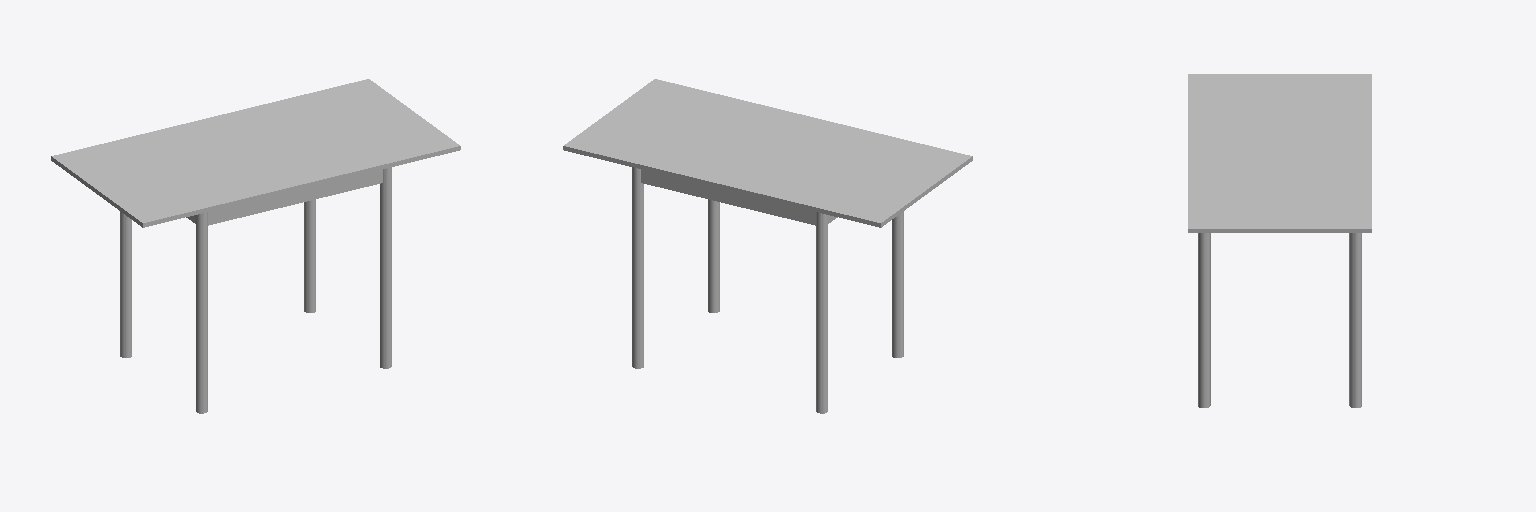
The model's file is Leset.obj.
The picture shows the model from 3 angles: view 1: azimuth 30°, elevation 25°; view 2: azimuth 150°, elevation 25°; view 3: azimuth 270°, elevation 25°; orthographic projection.
Parts seen in each view (by area): view 1: Cube_Cube.001, Cylinder, Cylinder.003, Cylinder.001, Cylinder.002; view 2: Cube_Cube.001, Cylinder.001, Cylinder.002, Cylinder, Cylinder.003; view 3: Cube_Cube.001, Cylinder.002, Cylinder.003.
Part boxes in pixels (bbox=[...]): Cube_Cube.001: bbox=[51, 79, 460, 227]; Cylinder: bbox=[196, 212, 207, 413]; Cylinder.003: bbox=[380, 167, 391, 368]; Cylinder.001: bbox=[120, 211, 131, 357]; Cylinder.002: bbox=[304, 199, 315, 312]; Cube_Cube.001: bbox=[563, 79, 972, 227]; Cylinder.001: bbox=[816, 212, 827, 413]; Cylinder.002: bbox=[632, 167, 643, 368]; Cylinder: bbox=[892, 211, 903, 357]; Cylinder.003: bbox=[708, 199, 719, 312]; Cube_Cube.001: bbox=[1188, 74, 1371, 232]; Cylinder.002: bbox=[1349, 233, 1361, 407]; Cylinder.003: bbox=[1198, 233, 1210, 407].
Size of the model in its own units: 2.4 by 1.51 by 1.2.